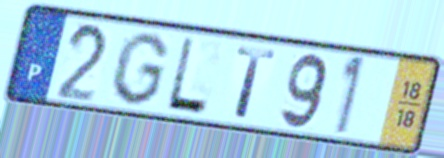1: (334, 53, 369, 141)
2: (51, 21, 112, 103)
9: (278, 50, 330, 131)
G: (107, 29, 172, 108)
L: (163, 35, 211, 118)
T: (232, 44, 280, 121)
